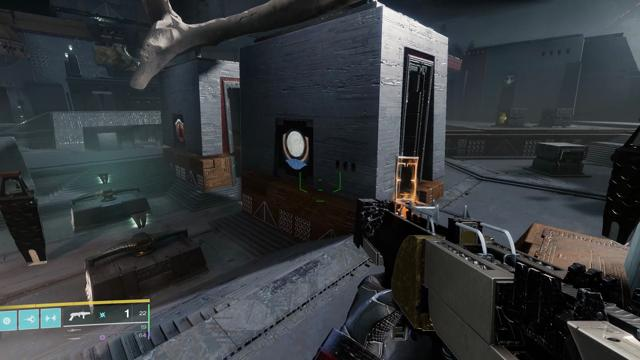traveler: (282, 128, 309, 170), (175, 118, 186, 142)
